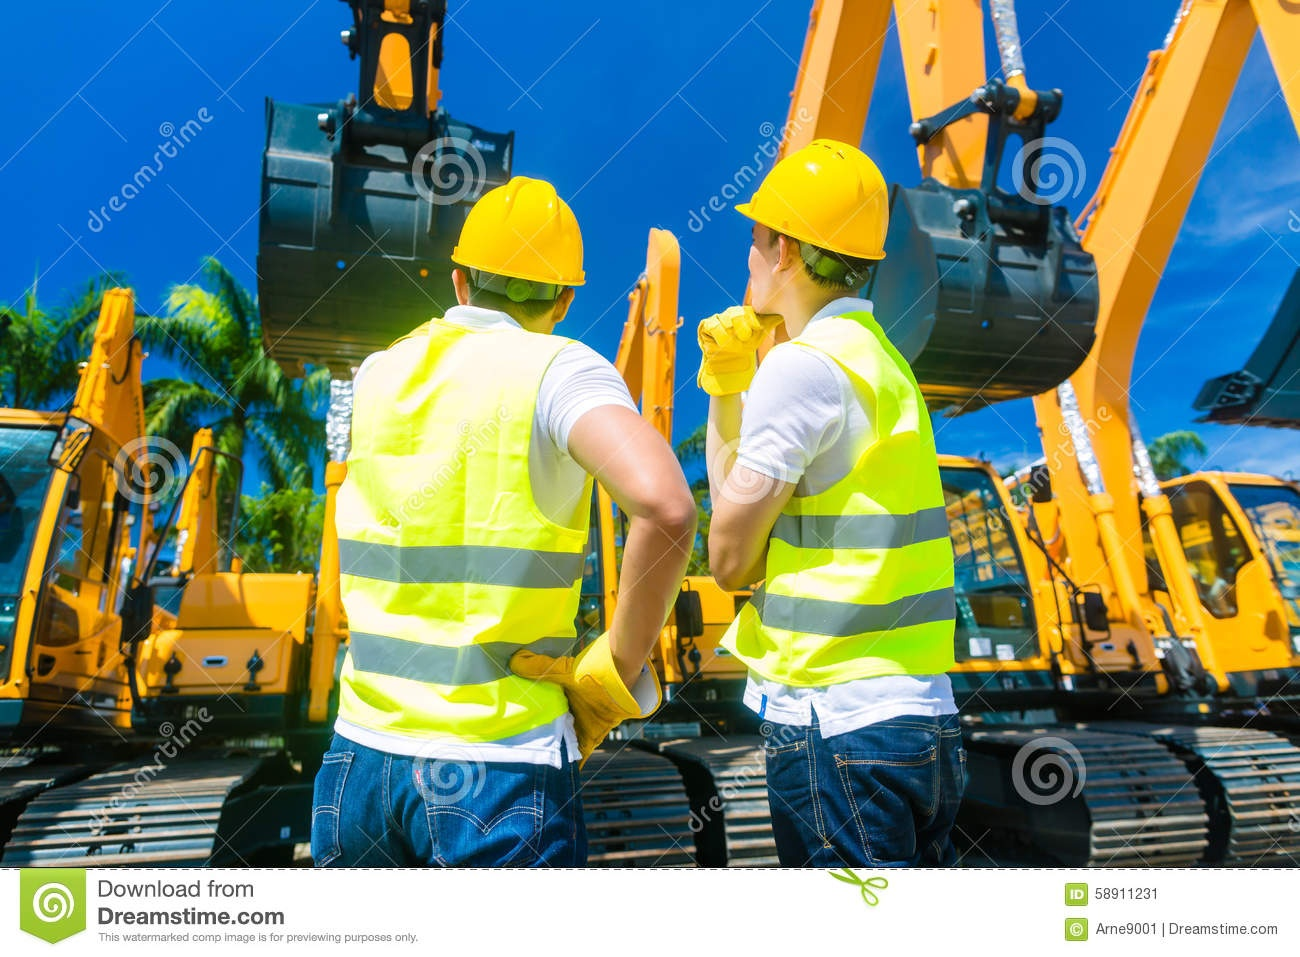yellow: (749, 149, 888, 318), (456, 176, 584, 323)
